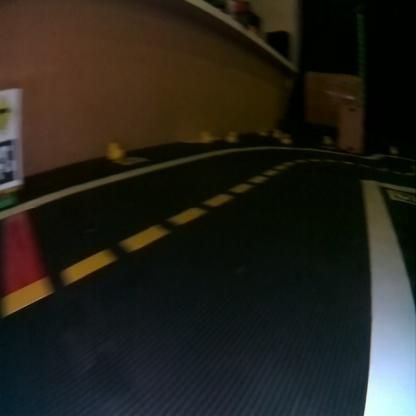Duckie: (106, 142, 121, 158), (226, 130, 236, 141)
QR code: (0, 137, 20, 186), (388, 188, 414, 204)
